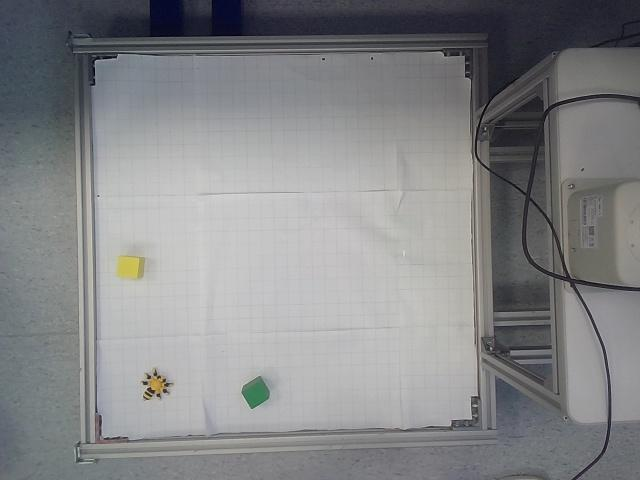frelon: (141, 368, 174, 401)
